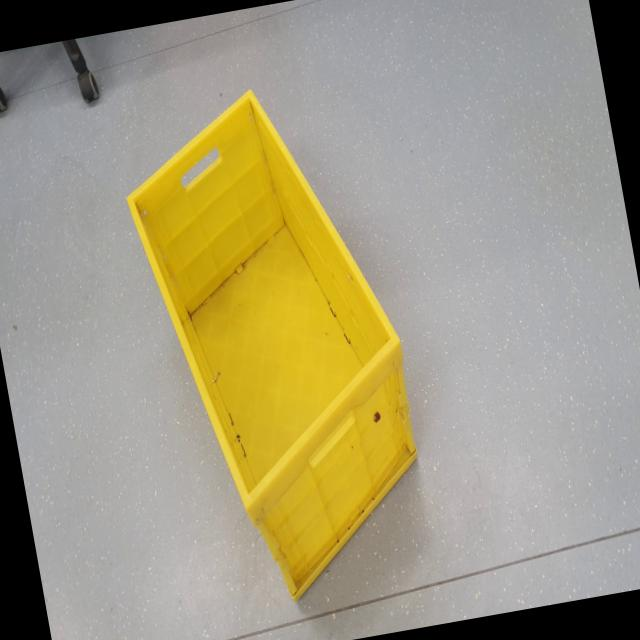box: (100, 60, 458, 627)
